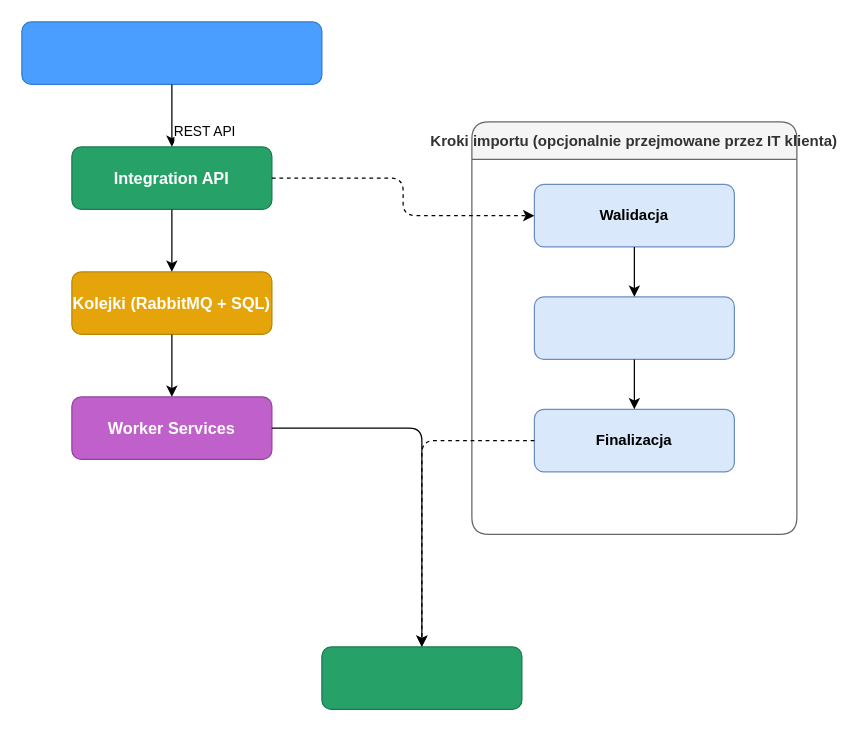
Image size: 860x731. Some labels were removed from this diagram. Here are the shapes that lost their labels. From the top down, the centre of each, then its label:
At point 171,52: "System zewnętrzny / IT klienta".
At point 633,327: "Transformacja".
At point 421,677: "DEBT Manager".
